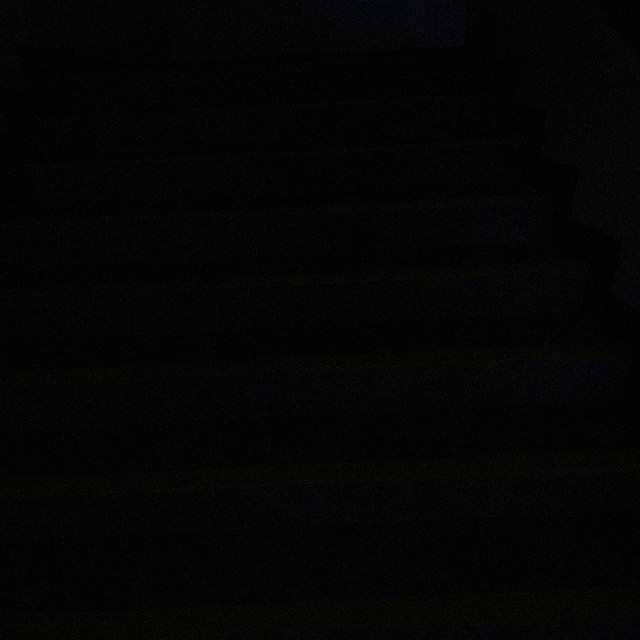stair: (0, 52, 639, 639)
